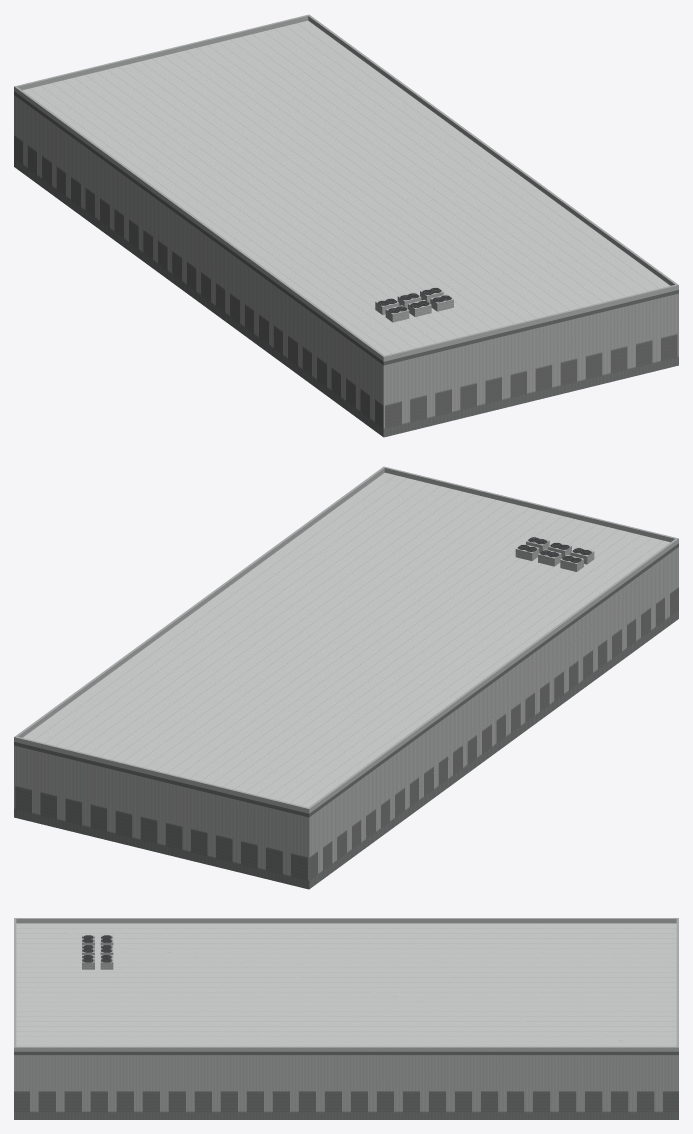
File: khsv_cargo_53x115.glb
The picture shows the model from 3 angles, top to bottom: view 1: azimuth 30°, elevation 25°; view 2: azimuth 150°, elevation 25°; view 3: azimuth 270°, elevation 25°; orthographic projection. The views are drawn at different scales.
Visible parts, largest first — view 1: khsv_cargo_53x115_roof, khsv_cargo_53x115_cargo_wall, khsv_cargo_53x115_coping, khsv_cargo_53x115_ac_side, khsv_cargo_53x115_ac_top; view 2: khsv_cargo_53x115_roof, khsv_cargo_53x115_cargo_wall, khsv_cargo_53x115_coping, khsv_cargo_53x115_ac_side, khsv_cargo_53x115_ac_top; view 3: khsv_cargo_53x115_roof, khsv_cargo_53x115_cargo_wall, khsv_cargo_53x115_coping, khsv_cargo_53x115_ac_top, khsv_cargo_53x115_ac_side.
Boxes of the visible parts, x1,y1,x2,y2 form: khsv_cargo_53x115_roof: [23, 20, 670, 355]; khsv_cargo_53x115_cargo_wall: [14, 91, 678, 437]; khsv_cargo_53x115_coping: [14, 14, 678, 361]; khsv_cargo_53x115_ac_side: [375, 291, 453, 322]; khsv_cargo_53x115_ac_top: [376, 287, 453, 314]; khsv_cargo_53x115_roof: [22, 472, 669, 807]; khsv_cargo_53x115_cargo_wall: [14, 543, 678, 889]; khsv_cargo_53x115_coping: [14, 466, 678, 813]; khsv_cargo_53x115_ac_side: [515, 540, 594, 571]; khsv_cargo_53x115_ac_top: [516, 536, 593, 563]; khsv_cargo_53x115_roof: [16, 923, 676, 1046]; khsv_cargo_53x115_cargo_wall: [14, 1051, 678, 1119]; khsv_cargo_53x115_coping: [14, 918, 678, 1051]; khsv_cargo_53x115_ac_top: [82, 935, 113, 962]; khsv_cargo_53x115_ac_side: [82, 942, 113, 969].
Bounding box in the file's own units: 53 × 14.4 × 115.
Materials: 5 (5 with a texture image).
